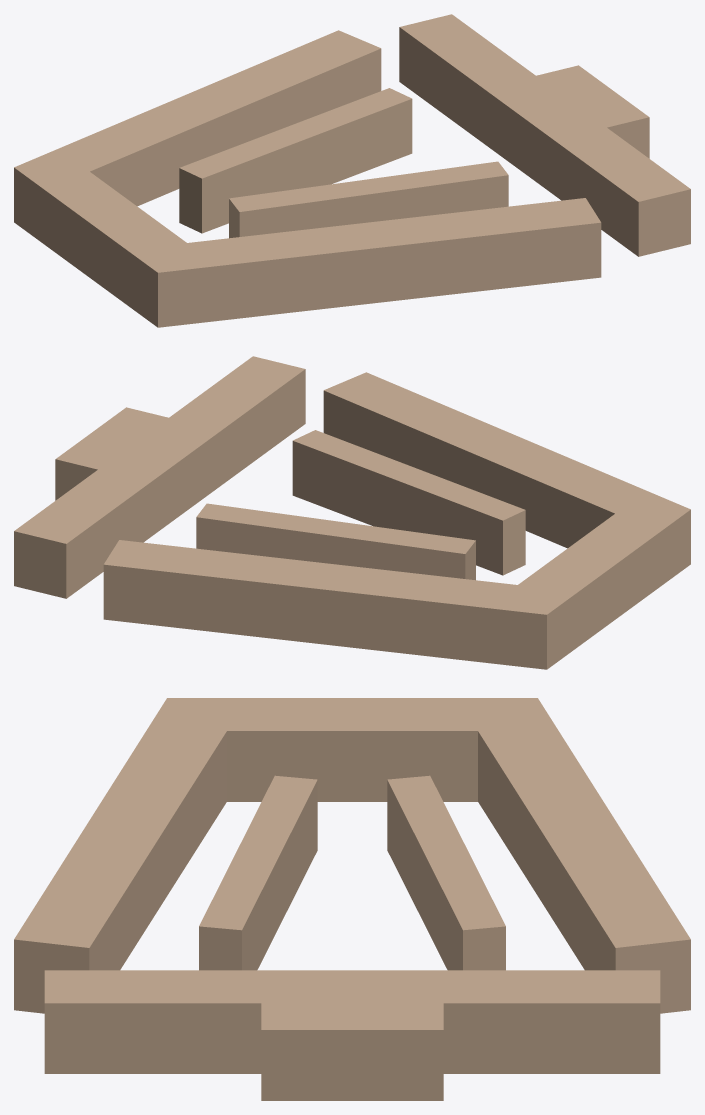
The model's file is TrashCan.fbx.
3 renders of one model, top to bottom at view 1: azimuth 30°, elevation 25°; view 2: azimuth 150°, elevation 25°; view 3: azimuth 270°, elevation 25°, orthographic. The views are drawn at different scales.
Parts seen in each view (by area): view 1: trashCan; view 2: trashCan; view 3: trashCan.
Boxes of the visible parts, box(x1,y1,x2,y2) form: trashCan: box(14, 14, 690, 327); trashCan: box(14, 356, 690, 669); trashCan: box(14, 698, 690, 1100).
Size of the model in its own units: 3.75 by 0.3732 by 3.24.
